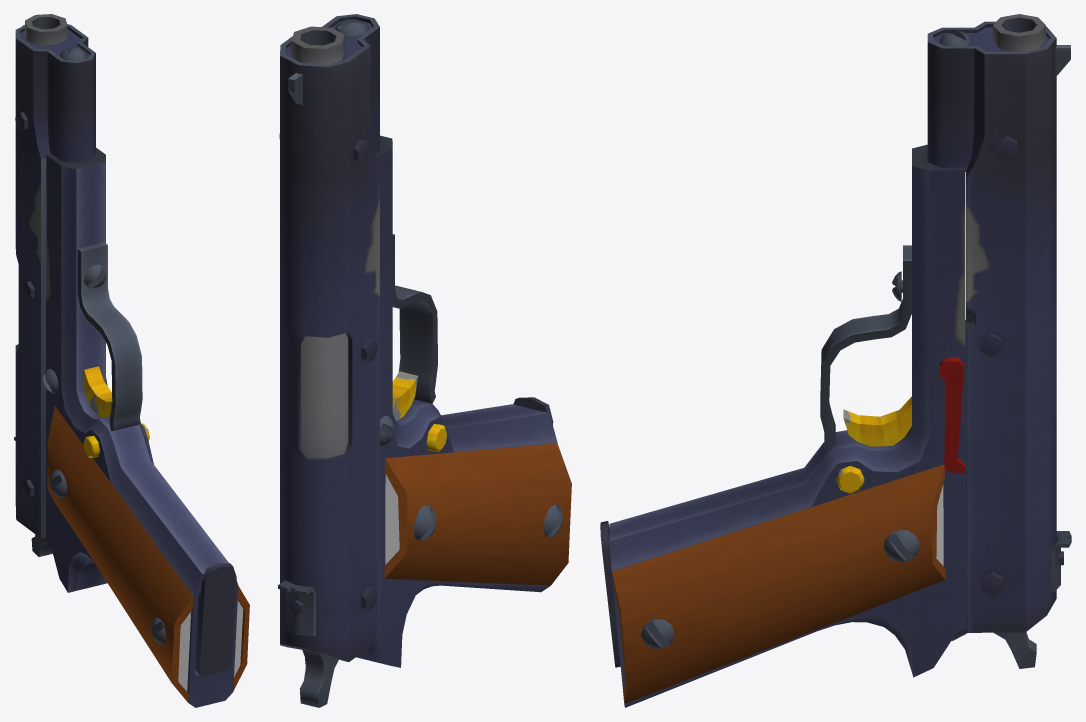
The model's file is M1911_Preview.fbx.
The picture shows the model from 3 angles, left to right: view 1: azimuth 30°, elevation 25°; view 2: azimuth 150°, elevation 25°; view 3: azimuth 270°, elevation 25°; orthographic projection. The views are drawn at different scales.
Parts seen in each view (by area): view 1: Base.001; view 2: Base.001; view 3: Base.001.
Boxes of the visible parts, bbox=[...] form: Base.001: bbox=[14, 14, 249, 707]; Base.001: bbox=[278, 14, 571, 707]; Base.001: bbox=[600, 14, 1071, 707].
Size of the model in its own units: 0.2716 by 1.68 by 1.06.
